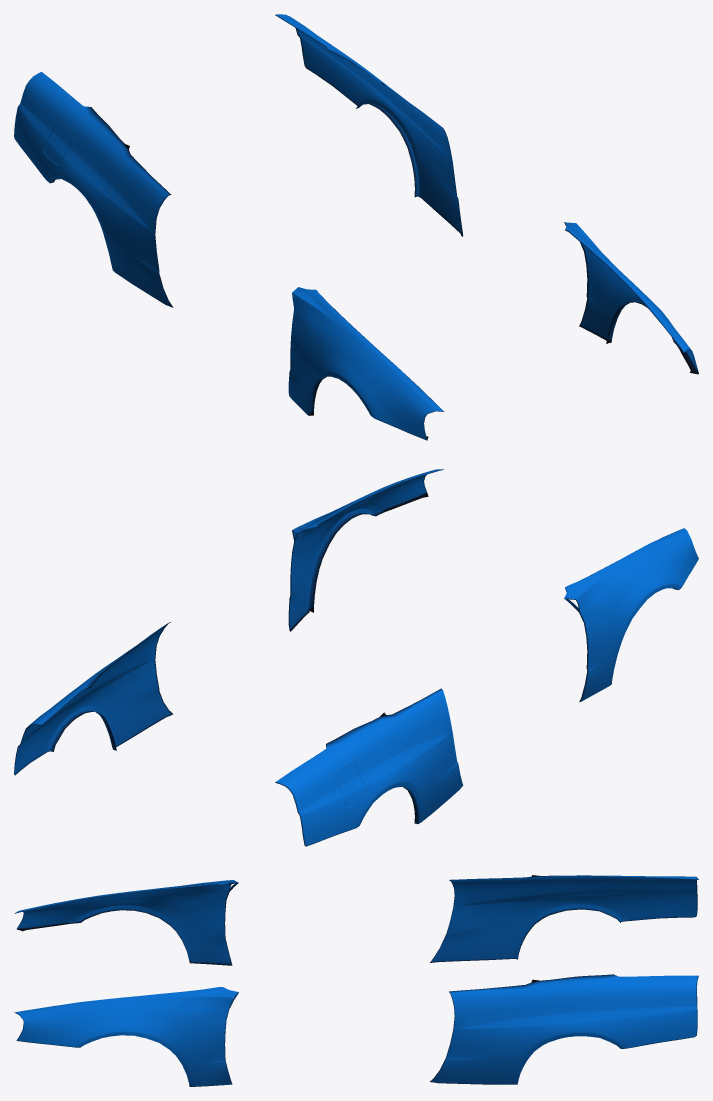
File: R34_Fender02_Duco.fbx
3 views of the same model, one above another, from view 1: azimuth 30°, elevation 25°; view 2: azimuth 150°, elevation 25°; view 3: azimuth 270°, elevation 25° (orthographic). The views are drawn at different scales.
Visible parts, largest first — view 1: R34_Fender02_Duco; view 2: R34_Fender02_Duco; view 3: R34_Fender02_Duco.
Boxes of the visible parts, x1=… form: R34_Fender02_Duco: x1=14, y1=14, x2=698, y2=440; R34_Fender02_Duco: x1=14, y1=469, x2=698, y2=846; R34_Fender02_Duco: x1=14, y1=875, x2=698, y2=1086.
Bounding box in the file's own units: 179 × 64.55 × 403.
